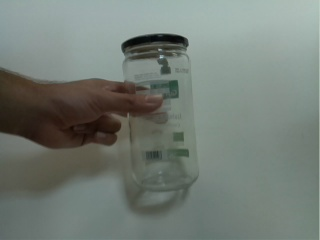pote cristal: (117, 32, 206, 195)
